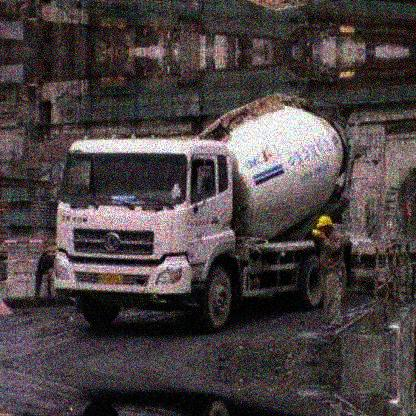helmet: (314, 215, 334, 238)
